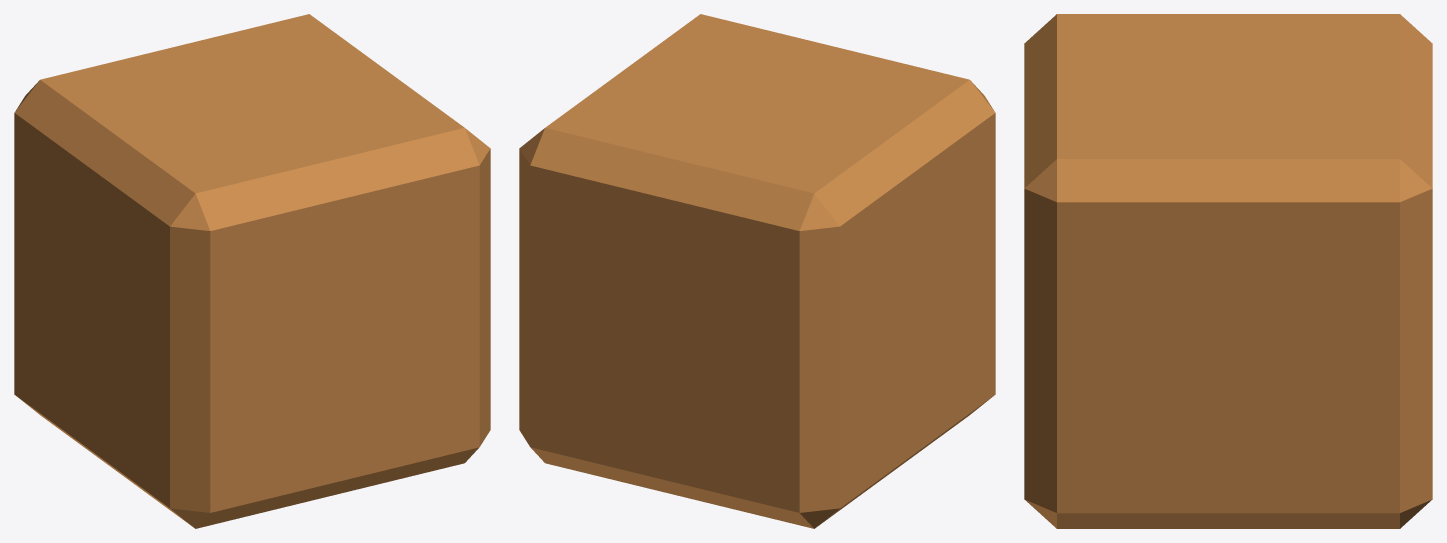
Rendered from debris_wood.glb.
3 renders of one model, left to right at view 1: azimuth 30°, elevation 25°; view 2: azimuth 150°, elevation 25°; view 3: azimuth 270°, elevation 25°, orthographic. The views are drawn at different scales.
Visible parts, largest first — view 1: debris_wood; view 2: debris_wood; view 3: debris_wood.
Boxes of the visible parts, x1,y1,x2,y2 form: debris_wood: [14, 14, 490, 528]; debris_wood: [519, 14, 995, 528]; debris_wood: [1024, 14, 1432, 528].
Size of the model in its own units: 0.075 by 0.075 by 0.075.
